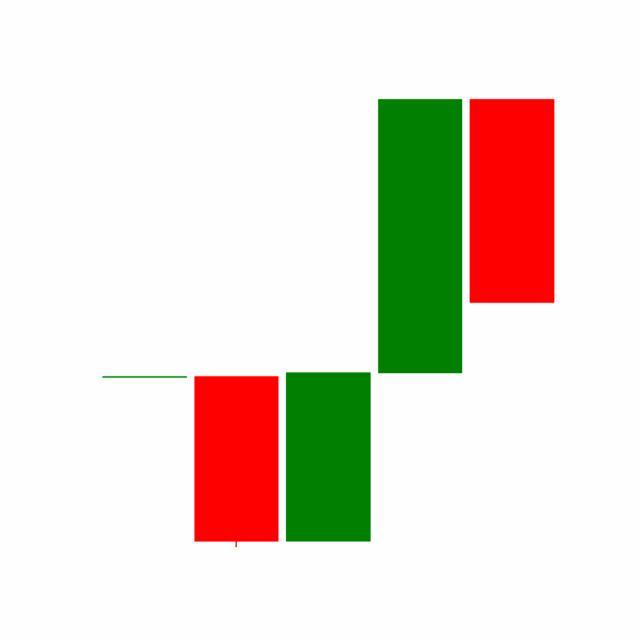Marubozu: (374, 96, 468, 376)
